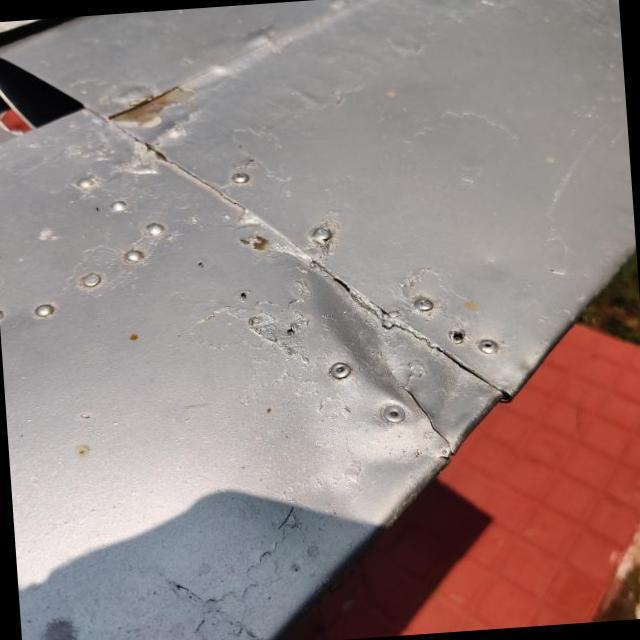Rupture: (372, 356, 461, 474)
